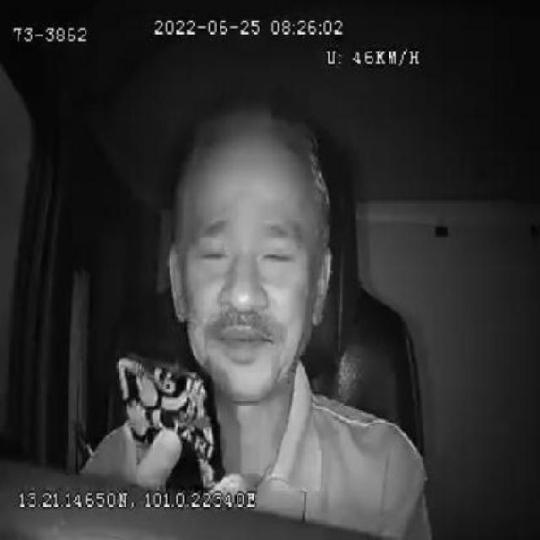phone: (115, 348, 241, 493)
